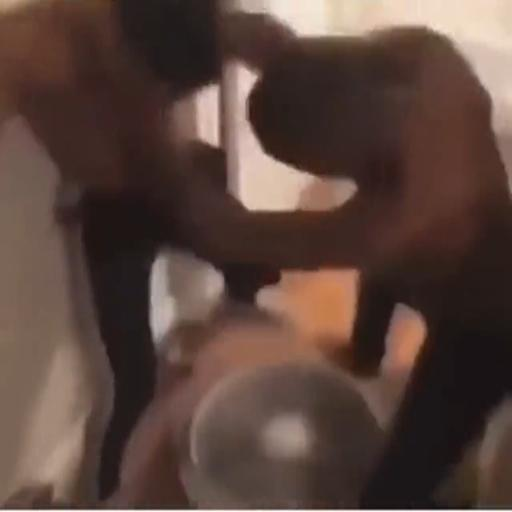violencia: (1, 0, 512, 457)
